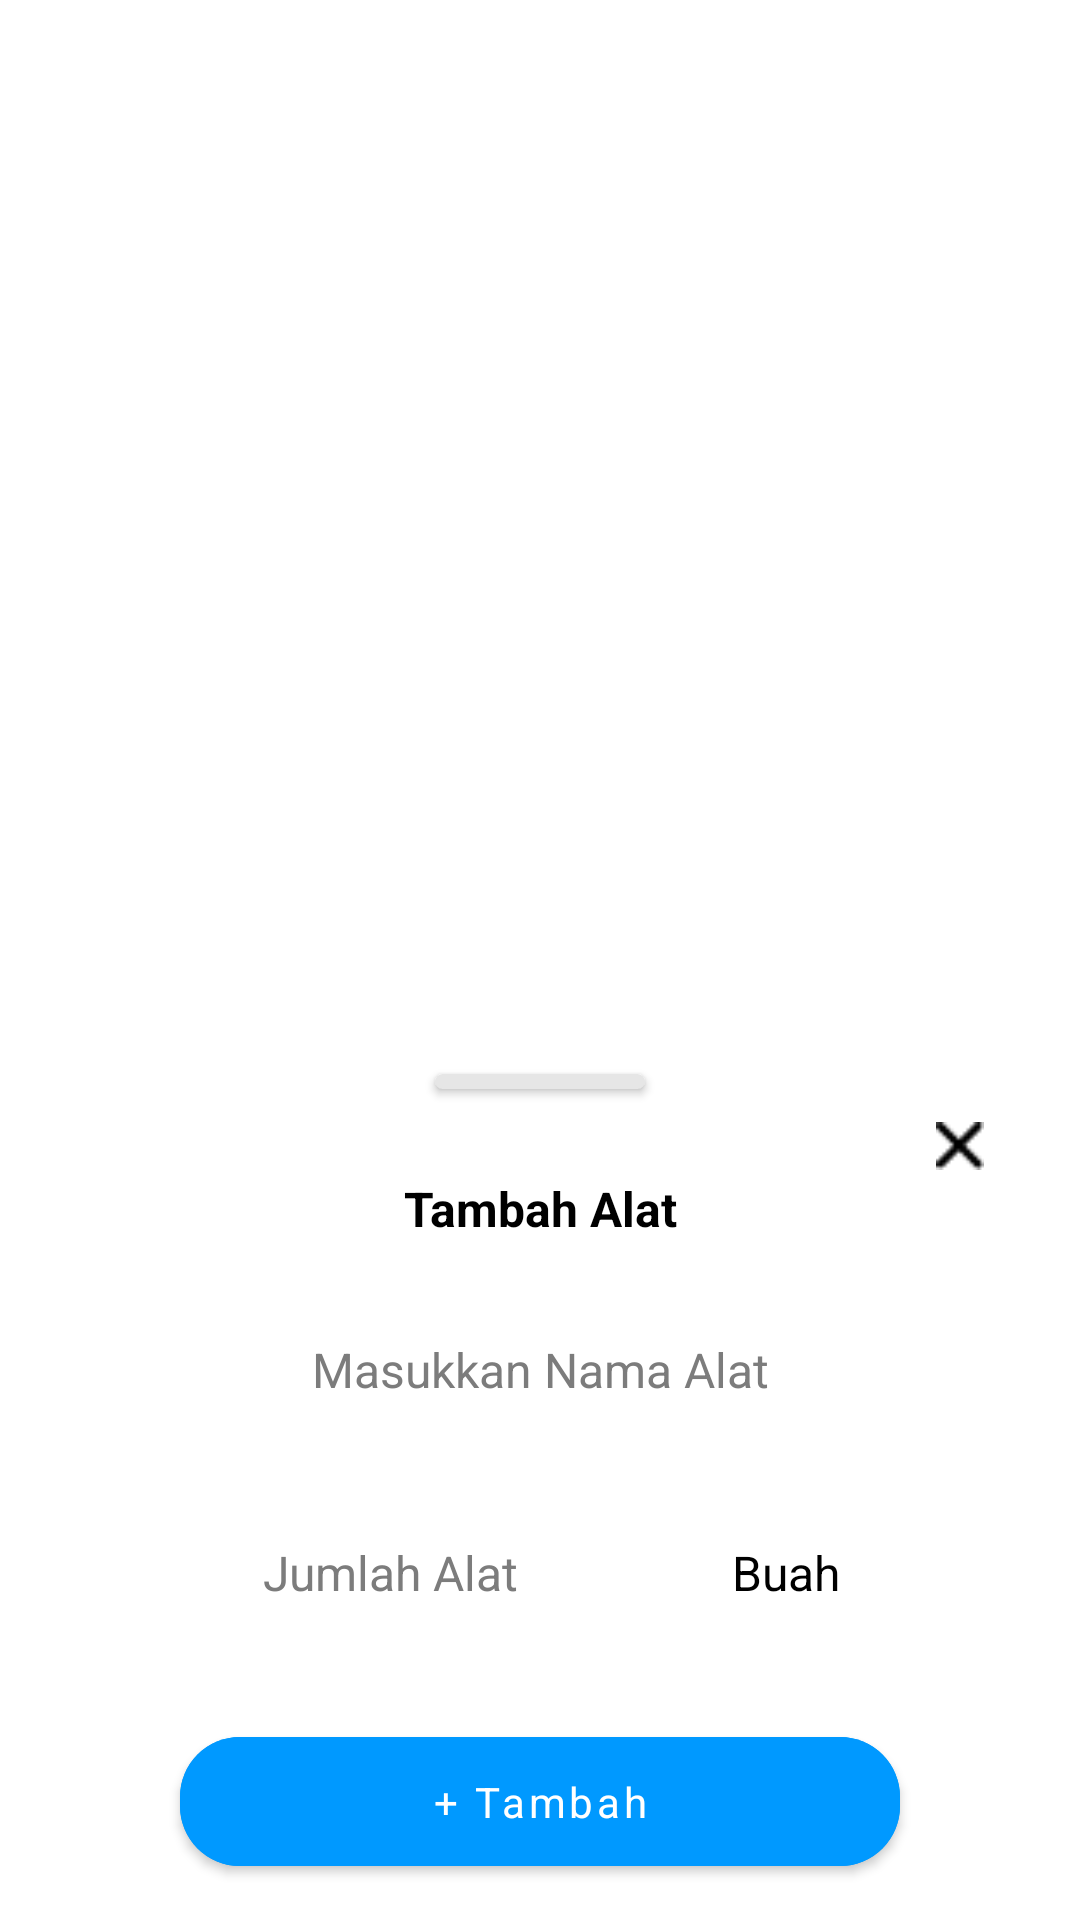

Icon click points for this 1080px x 1920px phone screenshot, format (x,y):
clear: (960,1146)
